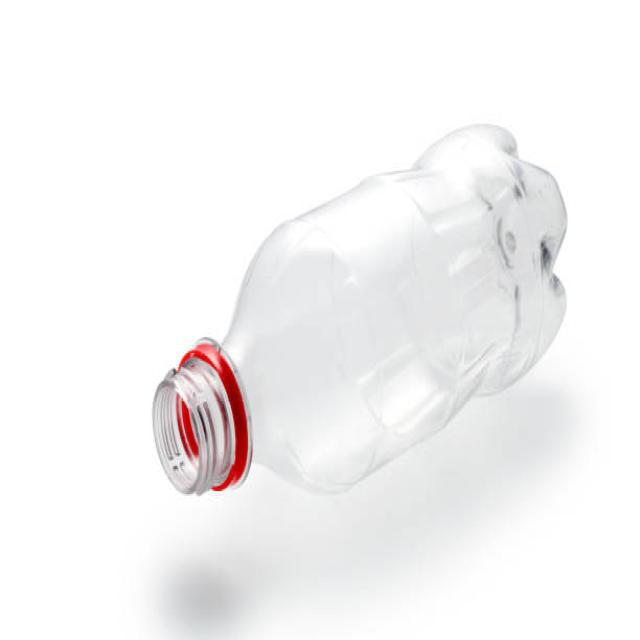recyclable: (148, 119, 574, 505)
